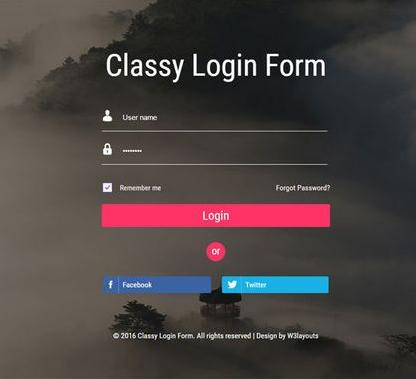button: (100, 201, 332, 230), (102, 274, 215, 296), (221, 274, 331, 296)
checkbox: (100, 181, 113, 194)
checkbox_with_label: (99, 180, 162, 195)
field_line: (99, 107, 333, 134), (100, 141, 331, 168)
